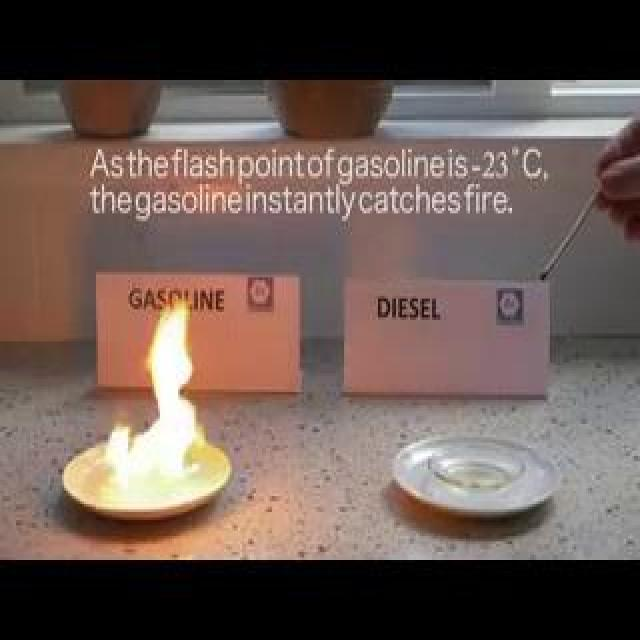Fire: (106, 296, 226, 499)
